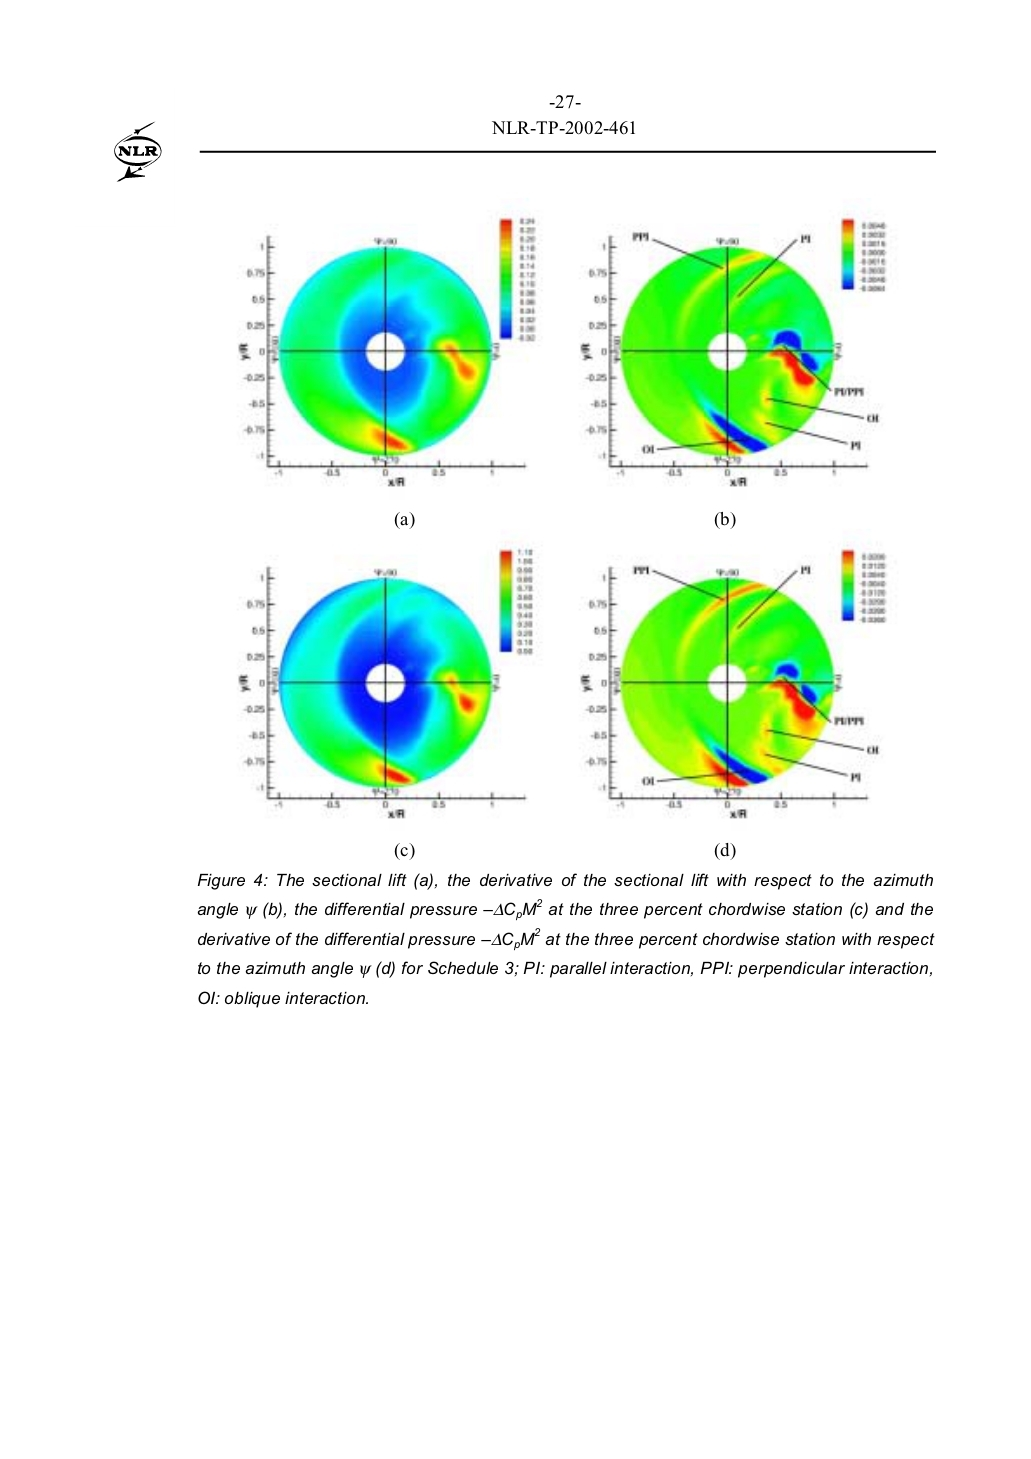figure: (580, 548, 886, 819), (580, 218, 887, 487), (238, 216, 538, 487), (238, 547, 536, 819), (114, 120, 161, 181)
